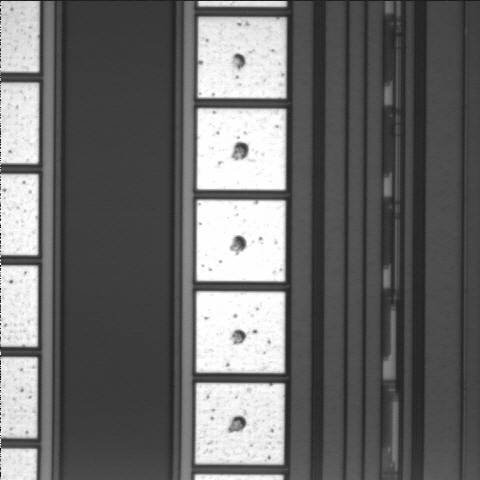pad: (195, 383, 285, 465), (197, 108, 286, 190), (196, 291, 285, 373), (196, 200, 285, 281), (198, 17, 286, 98)
